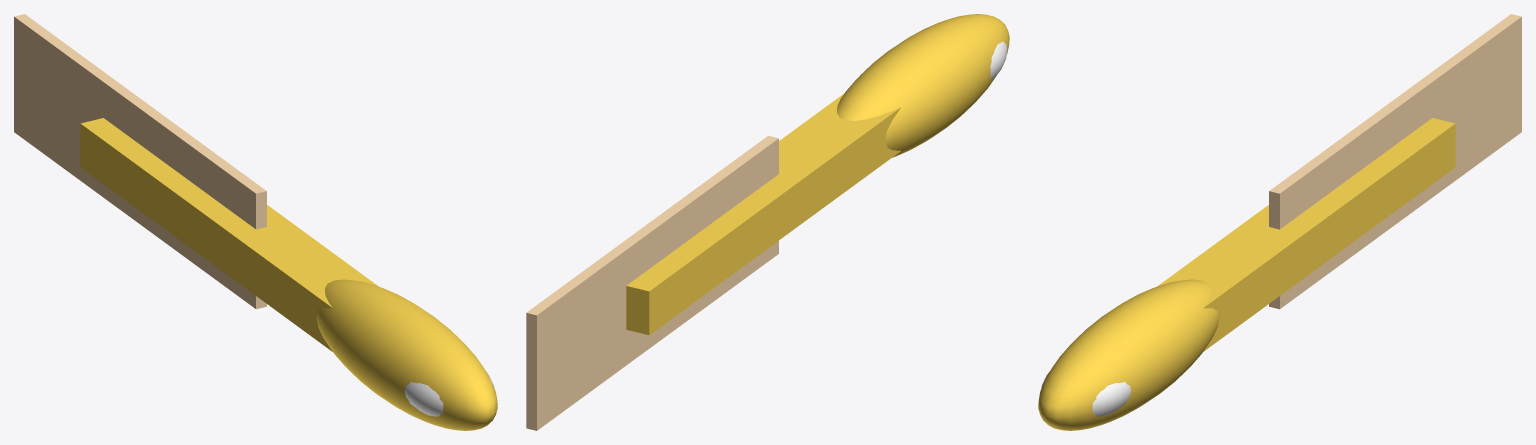
File: Fish_PinHead.fbx
3 views of the same model, side by side, from view 1: azimuth 30°, elevation 25°; view 2: azimuth 150°, elevation 25°; view 3: azimuth 330°, elevation 25° (orthographic).
Parts seen in each view (by area): view 1: Cube__2_, Cube__1_, Sphere, Sphere_1; view 2: Cube__2_, Cube__1_, Sphere; view 3: Cube__2_, Cube__1_, Sphere, Sphere_1.
Boxes of the visible parts, x1,y1,x2,y2 form: Cube__2_: (14,14,266,309); Cube__1_: (80,118,378,351); Sphere: (316,279,497,430); Sphere_1: (404,373,494,416); Cube__2_: (526,136,778,430); Cube__1_: (626,93,900,335); Sphere: (837,14,1009,157); Cube__2_: (1269,14,1521,309); Cube__1_: (1157,118,1455,351); Sphere: (1038,279,1219,430); Sphere_1: (1041,373,1131,416).
Bounding box in the file's own units: 19.07 × 25.43 × 187.
